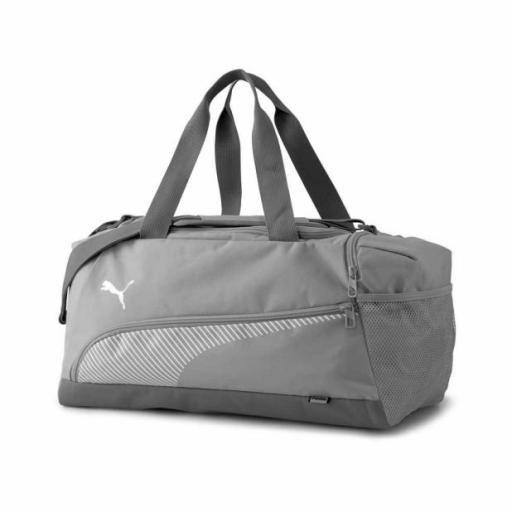Puma: (98, 274, 138, 313)
